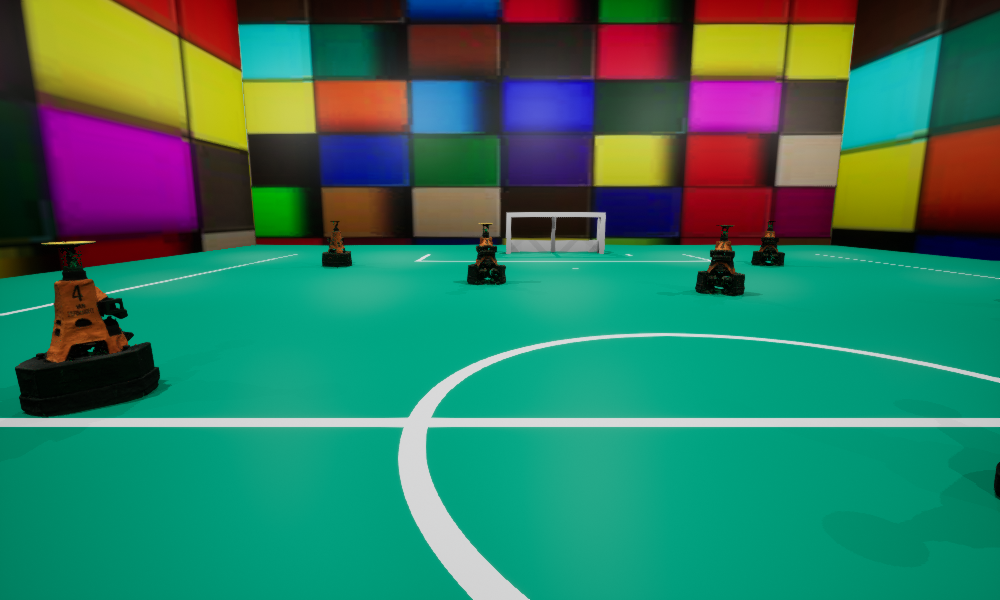o: (15, 241, 159, 416), (695, 225, 744, 294), (467, 223, 505, 284), (751, 220, 784, 265), (322, 221, 351, 266), (994, 462, 999, 496)
